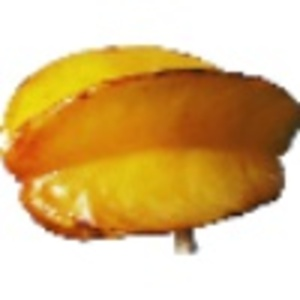carambola: (1, 42, 300, 256)
